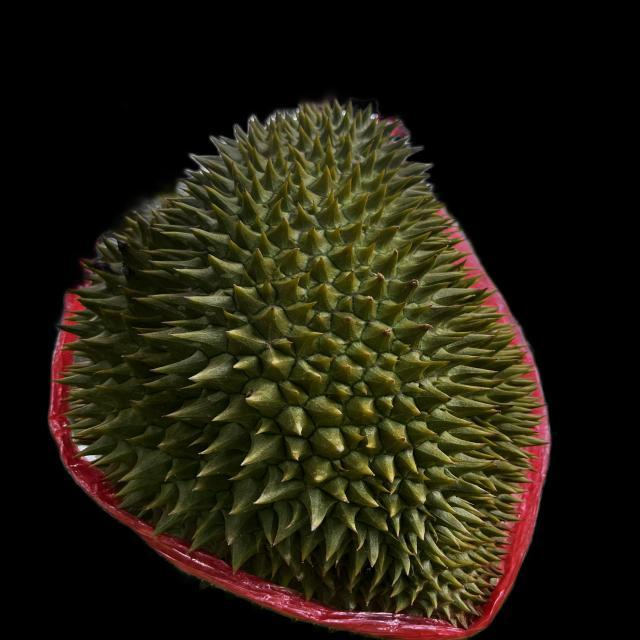immature: (62, 90, 534, 624)
